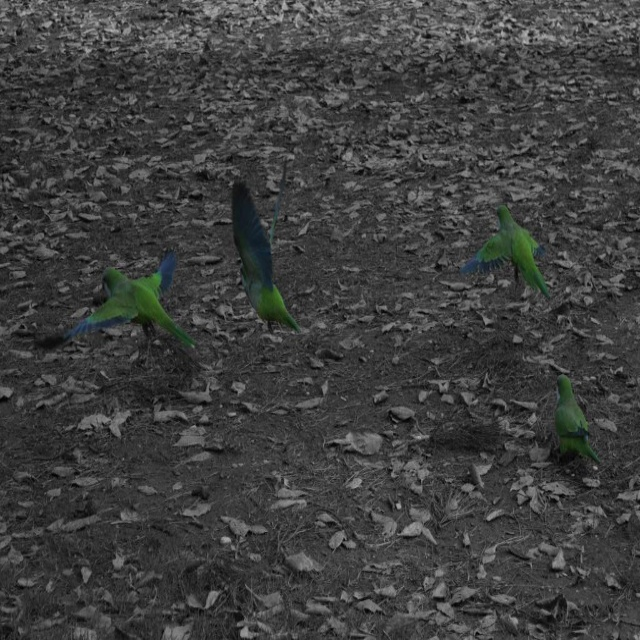Parrot: (64, 247, 193, 347), (230, 163, 302, 338), (456, 203, 551, 299), (554, 370, 603, 470)
